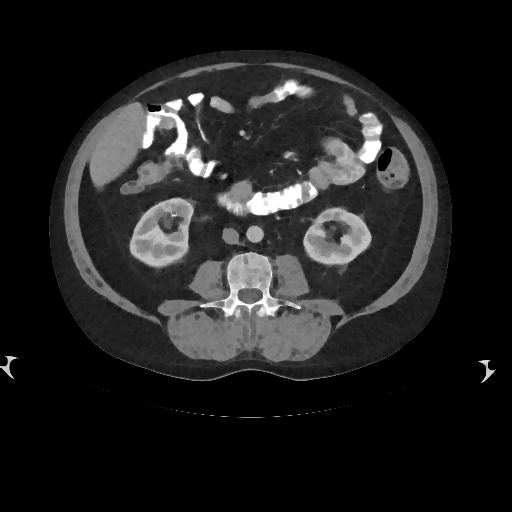Lesion: (163, 204, 181, 218)
